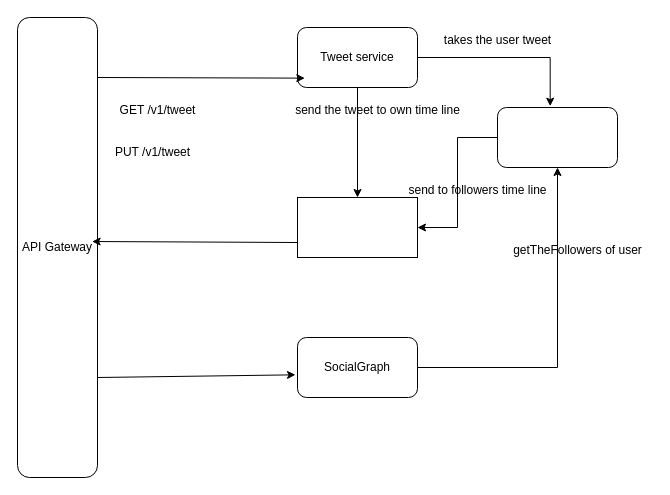
Image size: 670x495. Some labels were removed from this diagram. The shapes that lost their labels are listed below. From the top down, each one's box as (x1, y1, x2, y2) in pixels, then its label:
(496, 106, 618, 168): Fanout service
(296, 196, 418, 258): Homeline service
